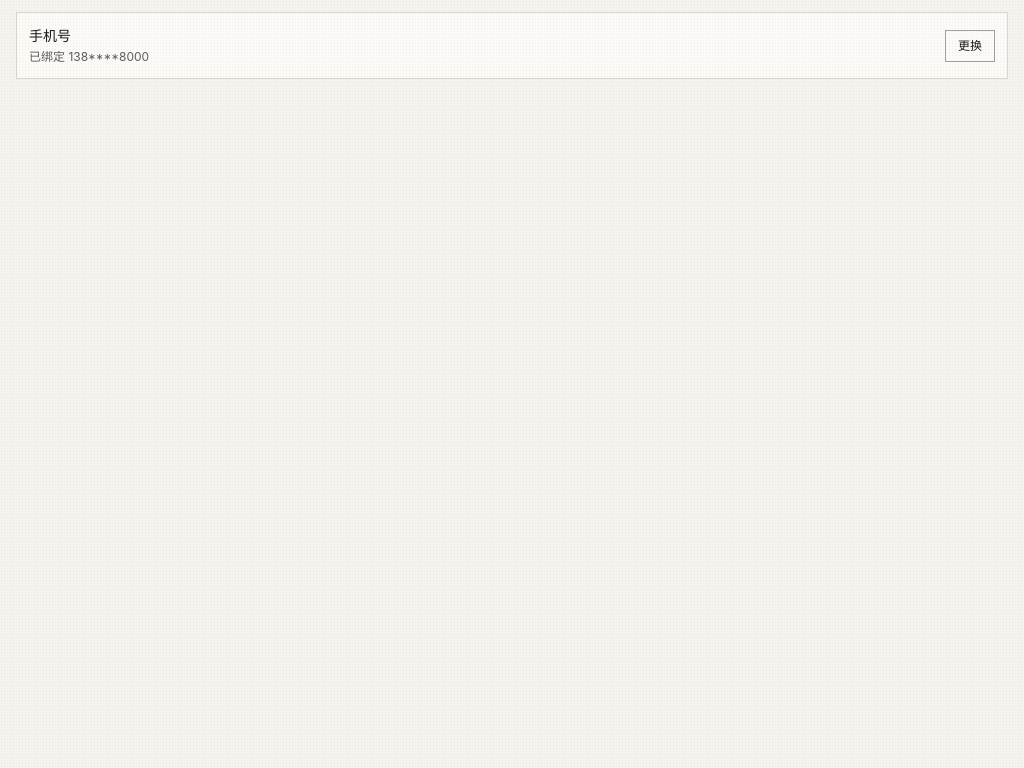
PhoneBindPanel › shows the bound phone and allows replacement
Check: the text with test id "phone-bind-status" shows "138****8000", box [29,49,149,64]
What coordinates should you click on to do the following:
click the button with test id "phone-bind-start"
I would click on:
 (970, 46)
Its box is [945,30,995,62].
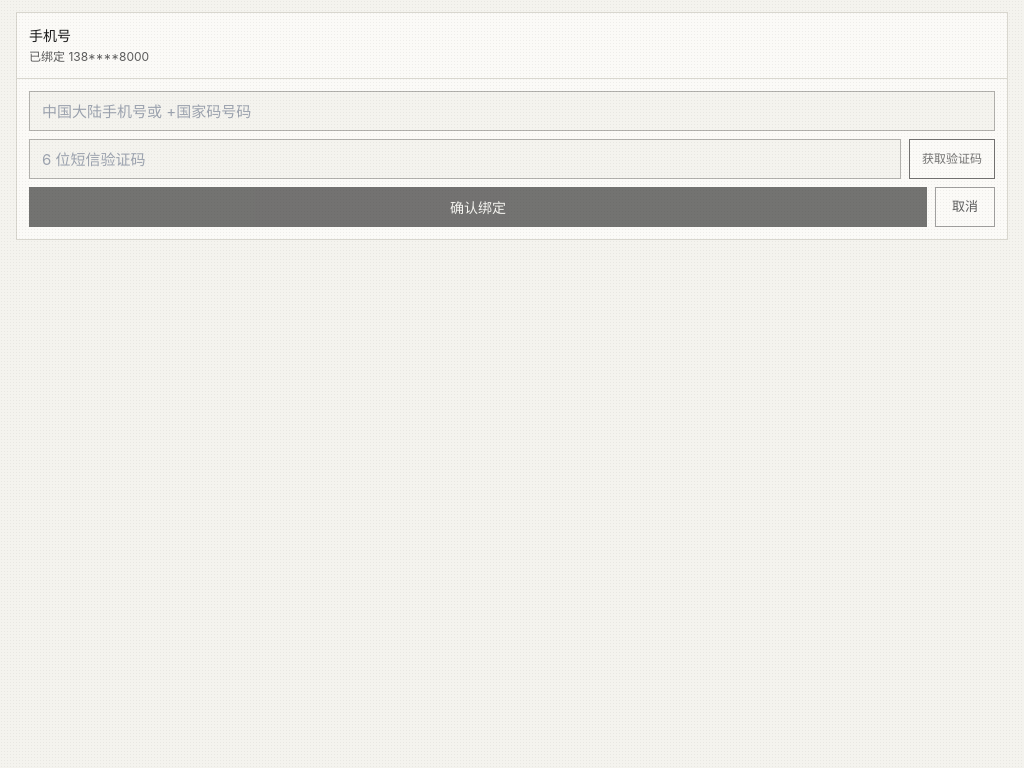
Check: the form with test id "phone-bind-form" is shown, box [17,78,1007,239]
